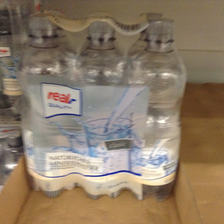water: (67, 13, 127, 199), (17, 12, 77, 198), (125, 18, 185, 202)
